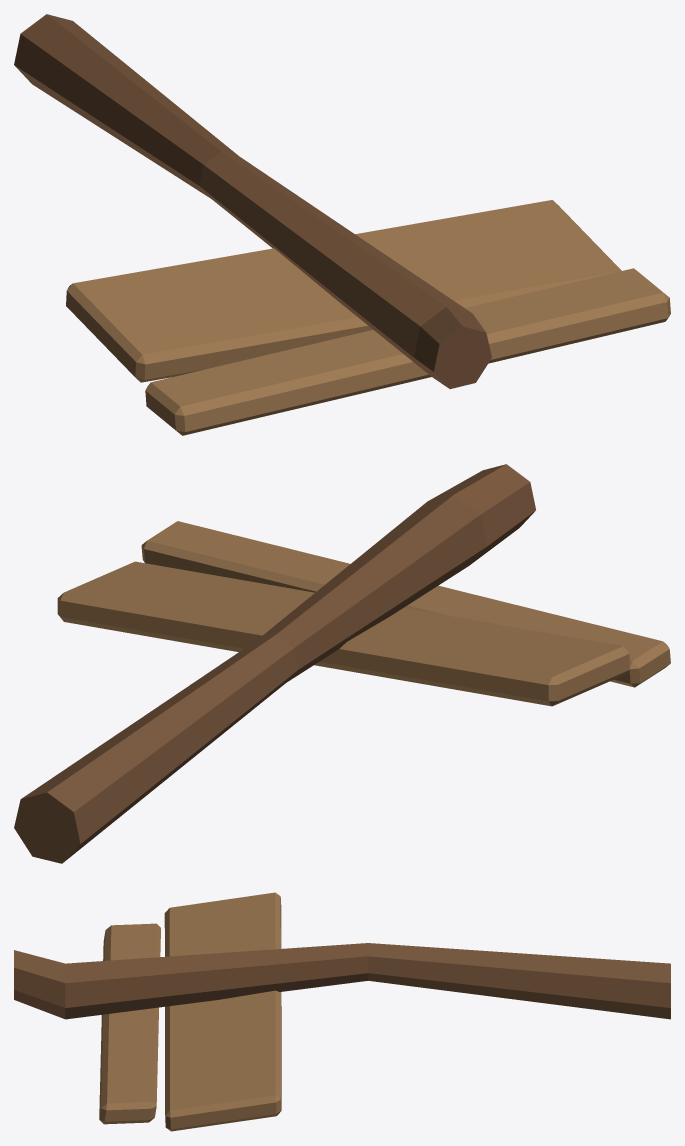
File: Panel_09.fbx
3 renders of one model, top to bottom at view 1: azimuth 30°, elevation 25°; view 2: azimuth 150°, elevation 25°; view 3: azimuth 270°, elevation 25°, orthographic. The views are drawn at different scales.
Parts seen in each view (by area): view 1: Poteau 1*2 LOW Petit.002; view 2: Poteau 1*2 LOW Petit.002; view 3: Poteau 1*2 LOW Petit.002.
Boxes of the visible parts, box(x1,y1,x2,y2) form: Poteau 1*2 LOW Petit.002: box(14, 14, 670, 435); Poteau 1*2 LOW Petit.002: box(14, 464, 670, 863); Poteau 1*2 LOW Petit.002: box(14, 892, 670, 1131).
Size of the model in its own units: 52.26 by 11.95 by 79.73.
